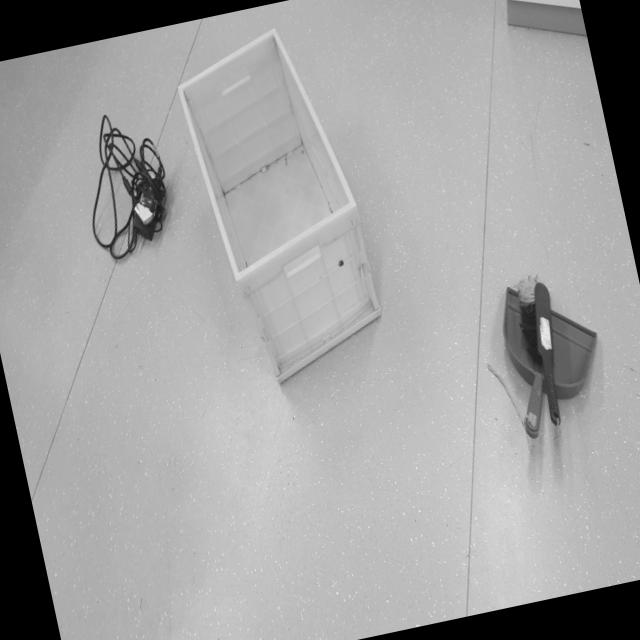box: (163, 3, 410, 448)
